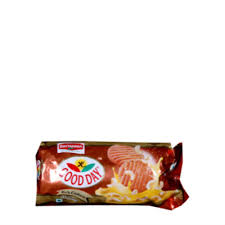gooday-small: (34, 147, 182, 207)
